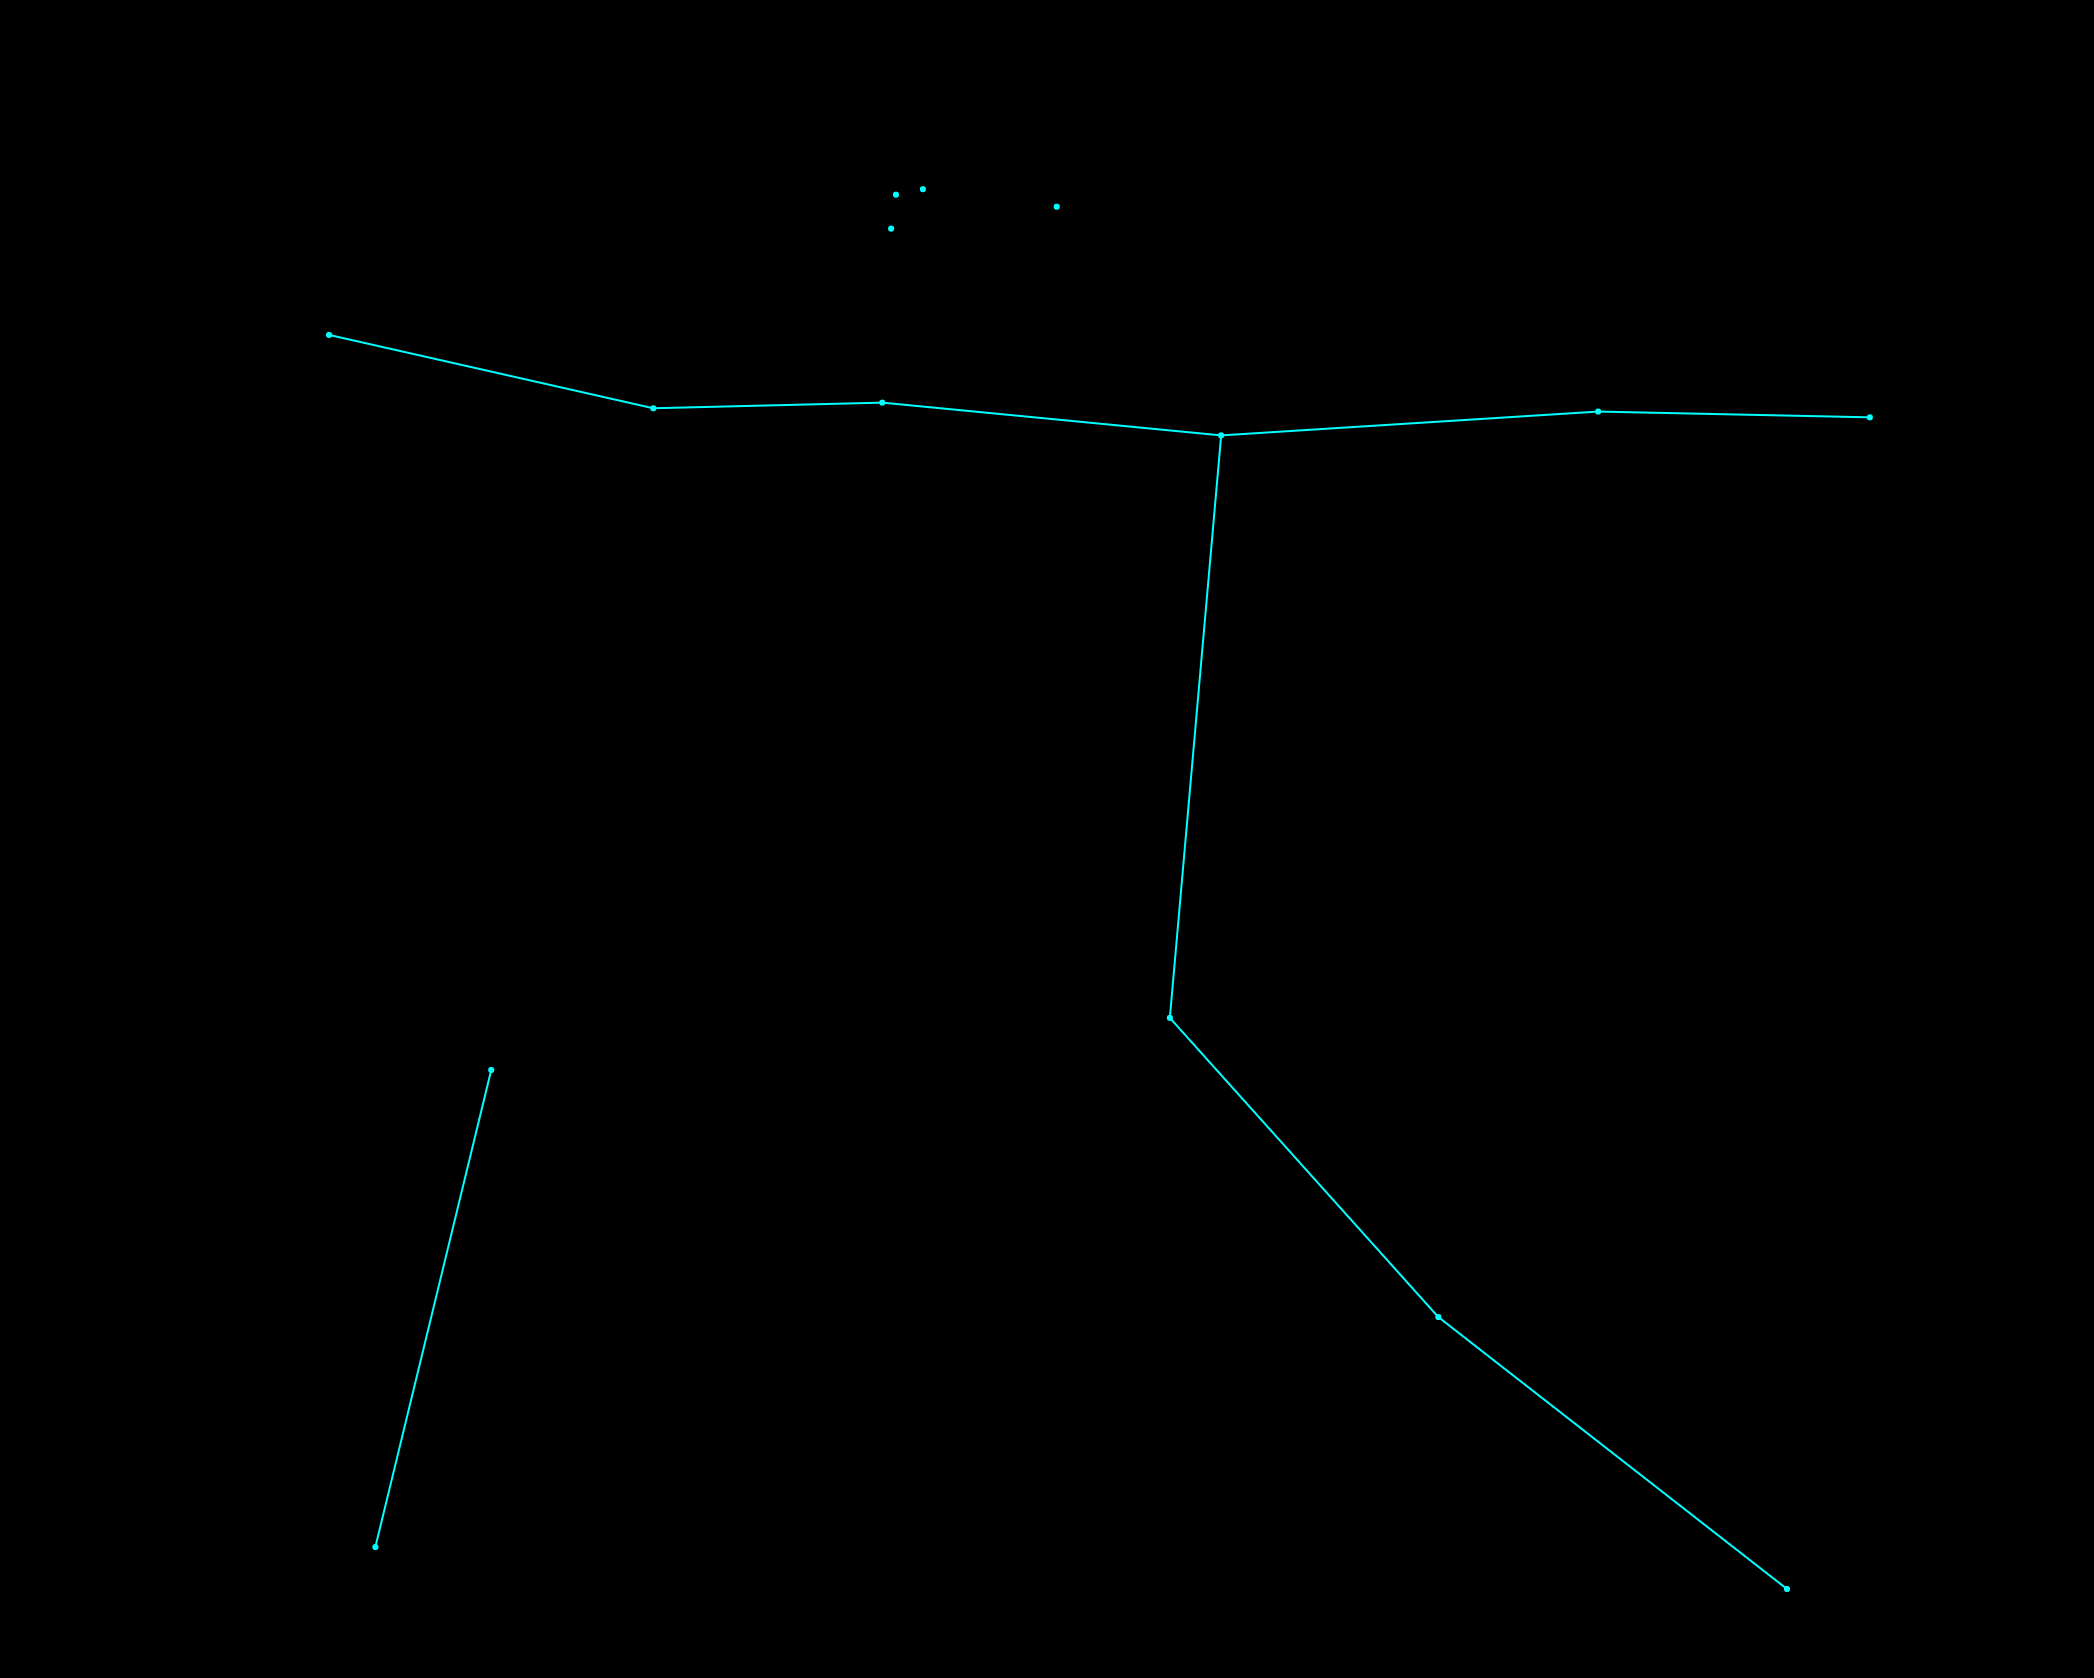warrior_2: (303, 158, 1887, 1604)
